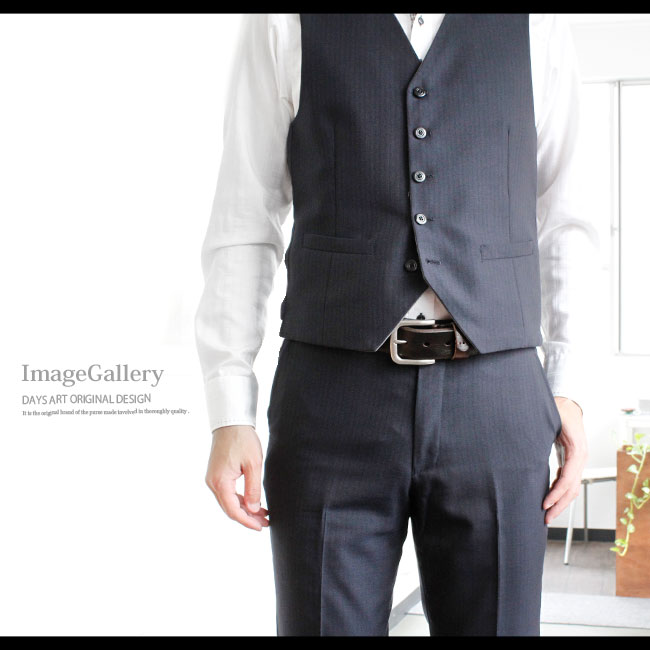F_belt: (371, 324, 515, 380)
F_dress pants: (259, 352, 554, 633)
F_shirt: (192, 16, 612, 449)
